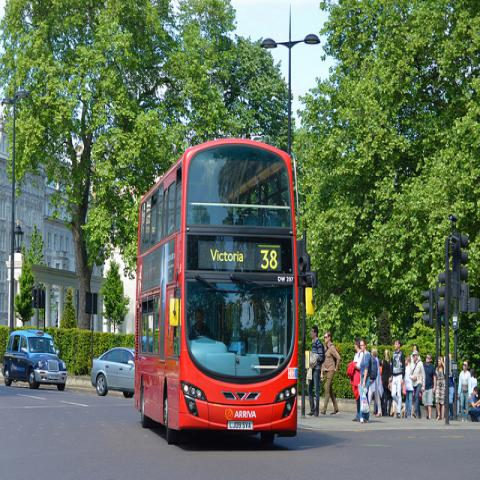bus: (134, 138, 299, 447)
car: (2, 330, 68, 391), (90, 346, 136, 396)
